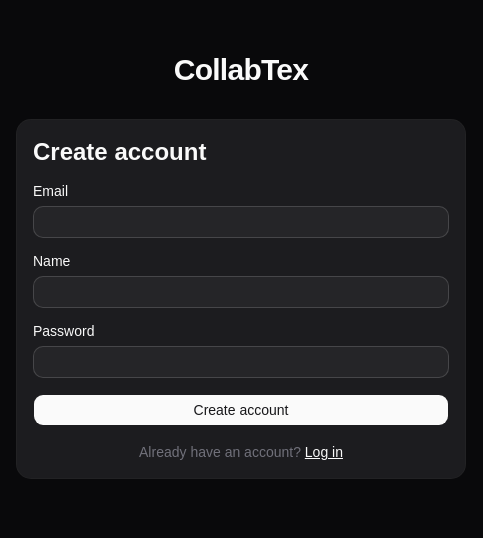
Test: RegisterPage › shows validation errors for empty fields on submit
The image size is (483, 538).
Click the button "Create account": point(241, 410) [33,394,449,426]
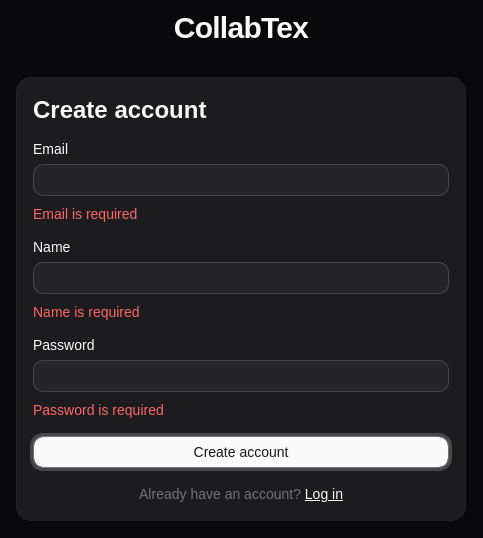
Result: the text "Email is required" is shown at [33,206,137,222]
Result: the text "Name is required" is shown at [33,304,140,320]
Result: the text "Password is required" is shown at [33,402,164,418]
